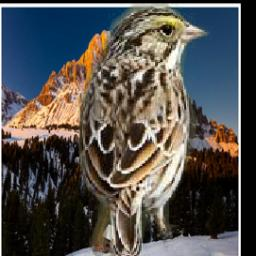Sparrow: (78, 3, 213, 256)
